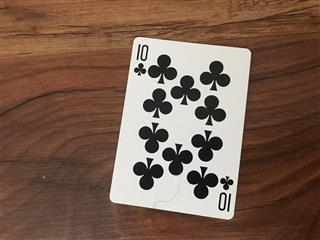TenOfClubs: (107, 34, 251, 220)
